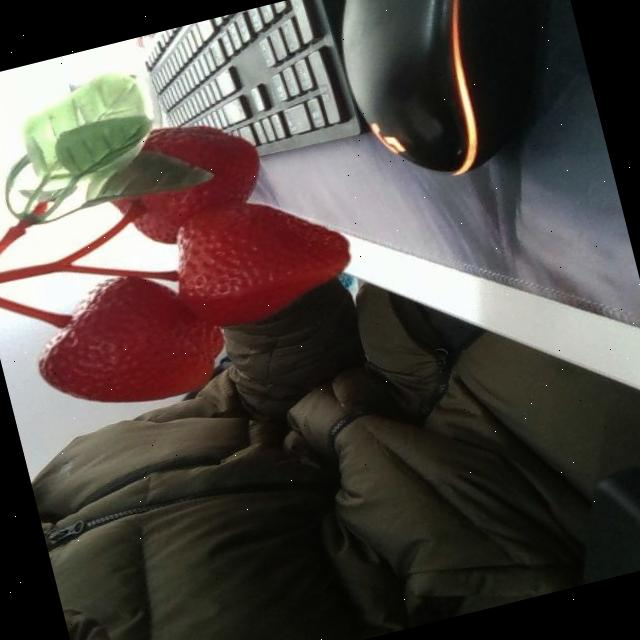strawberry: (20, 258, 234, 432), (164, 180, 362, 334), (94, 104, 274, 253)
